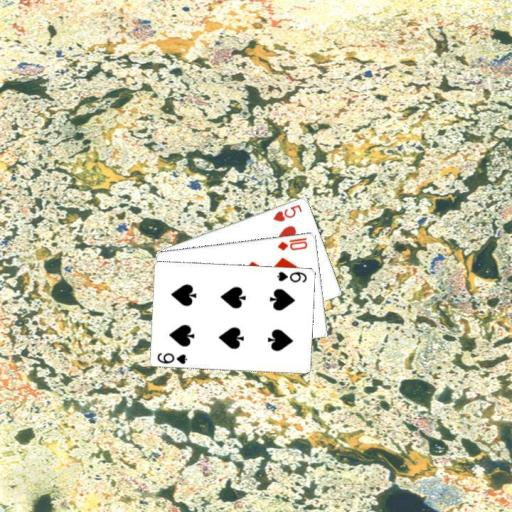10D: (275, 234, 310, 252)
5H: (270, 201, 304, 223)
6S: (274, 268, 309, 284), (155, 349, 189, 365)
